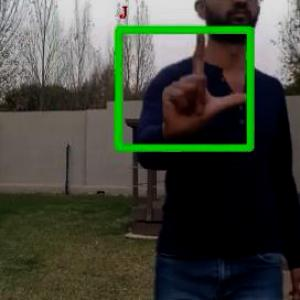land_hand: (158, 27, 249, 138)
